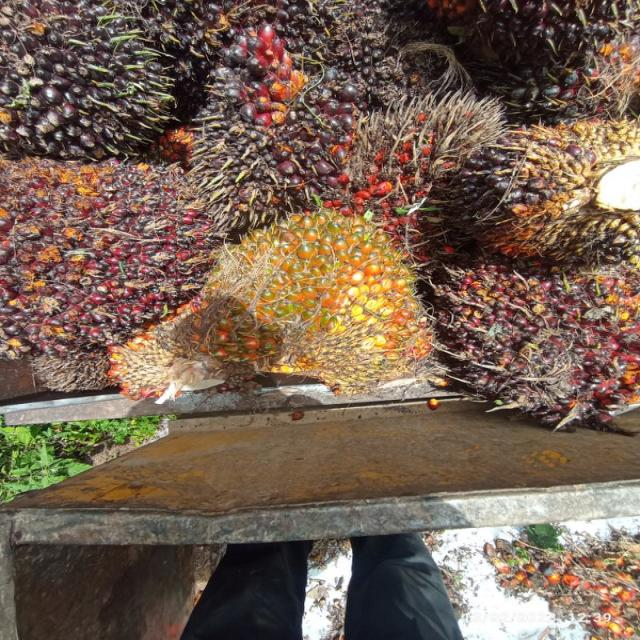fraksi 00: (454, 74, 640, 271), (198, 28, 354, 218), (0, 0, 171, 152), (210, 4, 400, 116)
fraksi 1: (0, 152, 210, 376), (426, 252, 640, 453)
fraksi 4: (344, 80, 484, 242)
